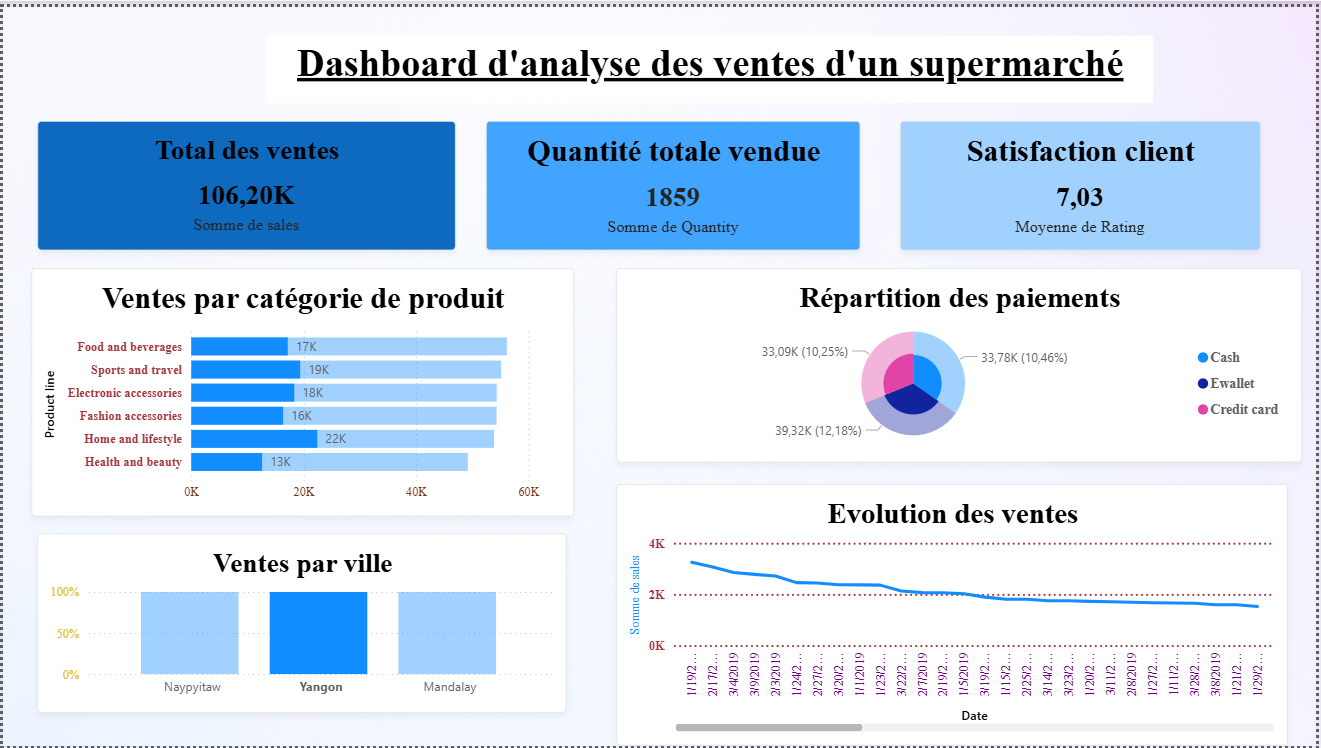

The dashboard page shown, as its layout file describes it:
{"tool":"powerbi","page":{"name":"Statistique Ventes","canvas":[1280,720],"ordinal":0},"visuals":[{"type":"card","title":"Total des ventes","fields":{"Values":["Sum(SuperMarket Analysis.Sales)"]},"box":[33.3,110.5,407.3,125.7],"z":0},{"type":"card","title":"Quantité totale vendue","fields":{"Values":["Sum(SuperMarket Analysis.Quantity)"]},"box":[470.9,110.5,364.9,125.7],"z":1000},{"type":"card","title":"Satisfaction client","fields":{"Values":["Avg(SuperMarket Analysis.Rating)"]},"box":[873.7,110.5,351.3,125.7],"z":2000},{"type":"barChart","title":"Ventes par catégorie de produit","fields":{"Category":["SuperMarket Analysis.Product line"],"Y":["Sum(SuperMarket Analysis.sales)"]},"box":[27.3,254.4,528.5,242.3],"z":3000},{"type":"pieChart","title":"Répartition des paiements","fields":{"Category":["SuperMarket Analysis.Payment"],"Y":["Sum(SuperMarket Analysis.sales)"]},"box":[598.1,254.4,667.8,189.3],"z":4000},{"type":"hundredPercentStackedColumnChart","title":"Ventes par ville","fields":{"Category":["SuperMarket Analysis.City"],"Y":["Sum(SuperMarket Analysis.sales)"]},"box":[33.9,513.7,515.6,175],"z":5000},{"type":"lineChart","title":"Evolution des ventes","fields":{"Category":["SuperMarket Analysis.Date"],"Y":["Sum(SuperMarket Analysis.sales)"]},"box":[597.7,464.7,654.7,223.6],"z":6000},{"type":"textbox","box":[257.4,17.1,863.8,66.7],"z":7000}]}

Visuals, with their boxes in screenshot pixels (x1, y1, x2, y2), scaled from the page's 1280x720 canvas onto the 1321x748 screenshot:
"Total des ventes" card: Rect(34, 115, 455, 245)
"Quantité totale vendue" card: Rect(486, 115, 863, 245)
"Satisfaction client" card: Rect(902, 115, 1264, 245)
"Ventes par catégorie de produit" barChart: Rect(28, 264, 574, 516)
"Répartition des paiements" pieChart: Rect(617, 264, 1306, 461)
"Ventes par ville" hundredPercentStackedColumnChart: Rect(35, 534, 567, 715)
"Evolution des ventes" lineChart: Rect(617, 483, 1293, 715)
textbox: Rect(266, 18, 1157, 87)
